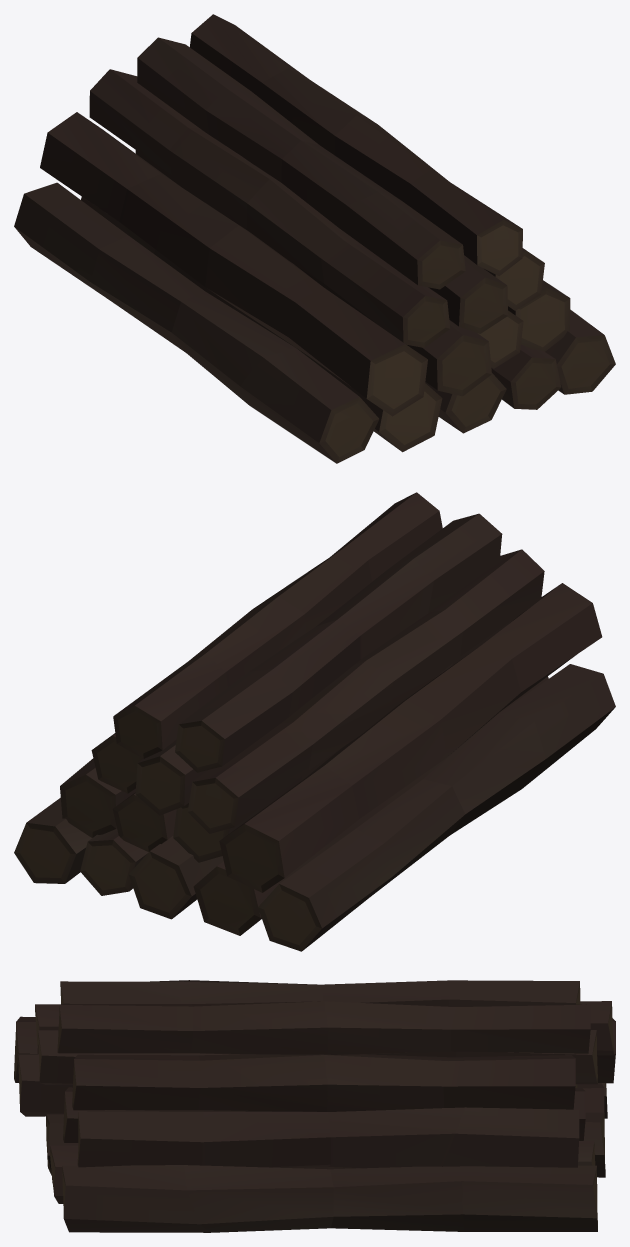
File: mesh_log_pile_02.glb
3 renders of one model, top to bottom at view 1: azimuth 30°, elevation 25°; view 2: azimuth 150°, elevation 25°; view 3: azimuth 270°, elevation 25°, orthographic. The views are drawn at different scales.
Visible parts, largest first — view 1: mesh_log_pile_02; view 2: mesh_log_pile_02; view 3: mesh_log_pile_02.
Part boxes in pixels (x1,y1,x2,y2): mesh_log_pile_02: [14, 14, 615, 463]; mesh_log_pile_02: [14, 492, 615, 951]; mesh_log_pile_02: [14, 980, 615, 1232].
Size of the model in its own units: 1.81 by 1.14 by 3.23.
